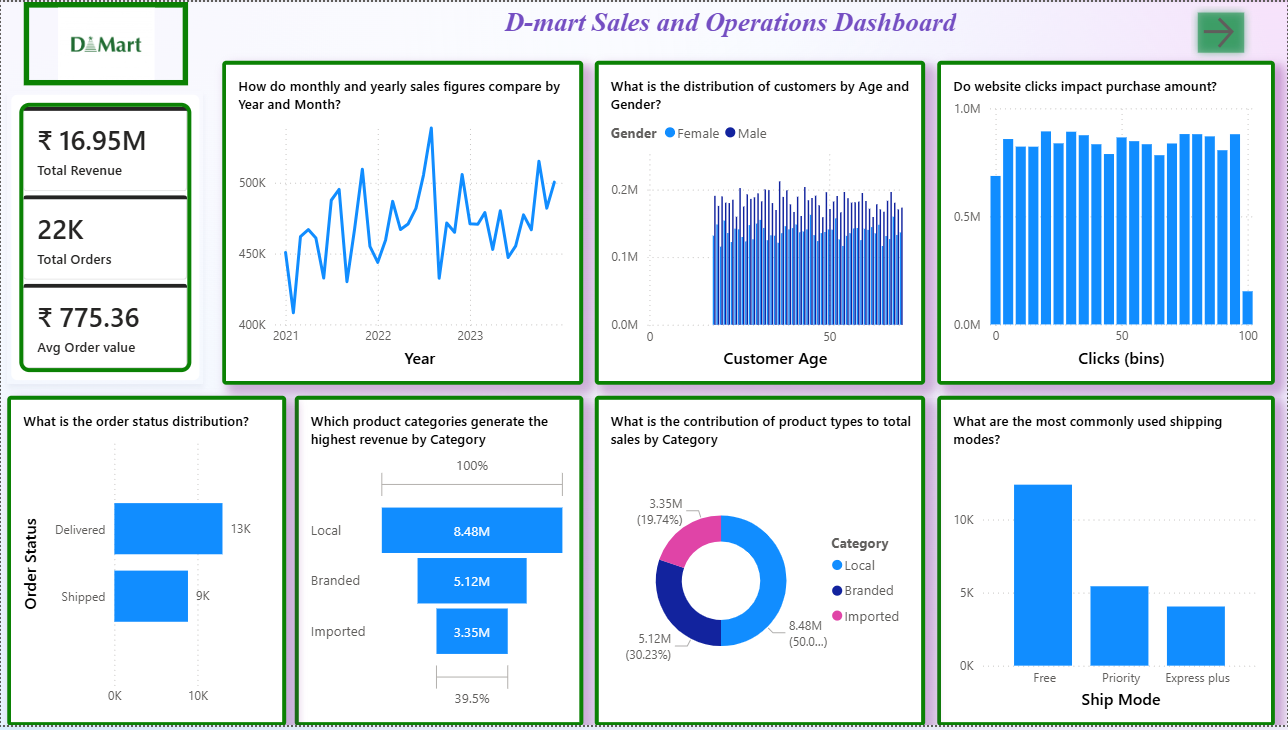

The dashboard page shown, as its layout file describes it:
{"tool":"powerbi","page":{"name":"DASHBOARD-1","canvas":[1280,720],"ordinal":0},"visuals":[{"type":"textbox","box":[496.3,0,459,42.3],"z":0},{"type":"cardVisual","fields":{"Data":["Dmart+Dataset_Tableau.Total Revenue","Dmart+Dataset_Tableau.Total Orders","Dmart+Dataset_Tableau.Avg Order value"]},"box":[6.2,88.3,195.3,292.3],"z":1000},{"type":"lineChart","title":"How do monthly and yearly sales figures compare by Year and Month?","fields":{"Category":["Dmart+Dataset_Tableau.Order Date.Variation.Date Hierarchy.Year","Dmart+Dataset_Tableau.Order Date.Variation.Date Hierarchy.Month"],"Y":["Sum(Dmart+Dataset_Tableau.Total Order Value)"]},"box":[220.2,58.5,359.5,322.2],"z":2000},{"type":"image","box":[22.4,0,164.2,83.3],"z":3000},{"type":"clusteredColumnChart","title":"What is the distribution of customers by Age and Gender?","fields":{"Series":["Dmart+Dataset_Tableau.Gender"],"Category":["Dmart+Dataset_Tableau.Customer Age"],"Y":["Sum(Dmart+Dataset_Tableau.Total Order Value)"]},"box":[590.9,58.5,328.4,322.2],"z":4000},{"type":"columnChart","title":"Do website clicks impact purchase amount? ","fields":{"Category":["Dmart+Dataset_Tableau.No of Clicks (bins)"],"Y":["Sum(Dmart+Dataset_Tableau.Total Order Value)"]},"box":[931.7,58.5,335.9,322.2],"z":5000},{"type":"funnel","title":"Which product categories generate the highest revenue by Category","fields":{"Category":["Dmart+Dataset_Tableau.Category"],"Y":["Sum(Dmart+Dataset_Tableau.Total Order Value)"]},"box":[292.3,391.8,287.4,328.4],"z":6000},{"type":"columnChart","title":"What are the most commonly used shipping modes? ","fields":{"Category":["Dmart+Dataset_Tableau.Ship Mode"],"Y":["CountNonNull(Dmart+Dataset_Tableau.Order ID)"]},"box":[931.7,391.8,335.9,328.4],"z":8000},{"type":"clusteredBarChart","title":"What is the order status distribution?","fields":{"Category":["Dmart+Dataset_Tableau.Order Status"],"Y":["CountNonNull(Dmart+Dataset_Tableau.Order ID)"]},"box":[6.2,391.8,277.4,328.4],"z":9000},{"type":"actionButton","box":[1183,2.5,62.2,56],"z":10000},{"type":"donutChart","title":"What is the contribution of product types to total sales by Category","fields":{"Category":["Dmart+Dataset_Tableau.Category"],"Y":["Sum(Dmart+Dataset_Tableau.Total Order Value)"]},"box":[590.9,391.8,328.4,328.4],"z":10001}]}

Visuals, with their boxes in screenshot pixels (x1, y1, x2, y2), scaled from the page's 1280x720 canvas onto the 1288x730 screenshot:
textbox: <bbox>499, 0, 961, 43</bbox>
cardVisual - Dmart+Dataset_Tableau.Total Revenue x Dmart+Dataset_Tableau.Total Orders: <bbox>6, 90, 203, 386</bbox>
"How do monthly and yearly sales figures compare by Year and Month?" lineChart: <bbox>222, 59, 583, 386</bbox>
image: <bbox>23, 0, 188, 84</bbox>
"What is the distribution of customers by Age and Gender?" clusteredColumnChart: <bbox>595, 59, 925, 386</bbox>
"Do website clicks impact purchase amount? " columnChart: <bbox>938, 59, 1276, 386</bbox>
"Which product categories generate the highest revenue by Category" funnel: <bbox>294, 397, 583, 729</bbox>
"What are the most commonly used shipping modes? " columnChart: <bbox>938, 397, 1276, 729</bbox>
"What is the order status distribution?" clusteredBarChart: <bbox>6, 397, 285, 729</bbox>
actionButton: <bbox>1190, 3, 1253, 59</bbox>
"What is the contribution of product types to total sales by Category" donutChart: <bbox>595, 397, 925, 729</bbox>
